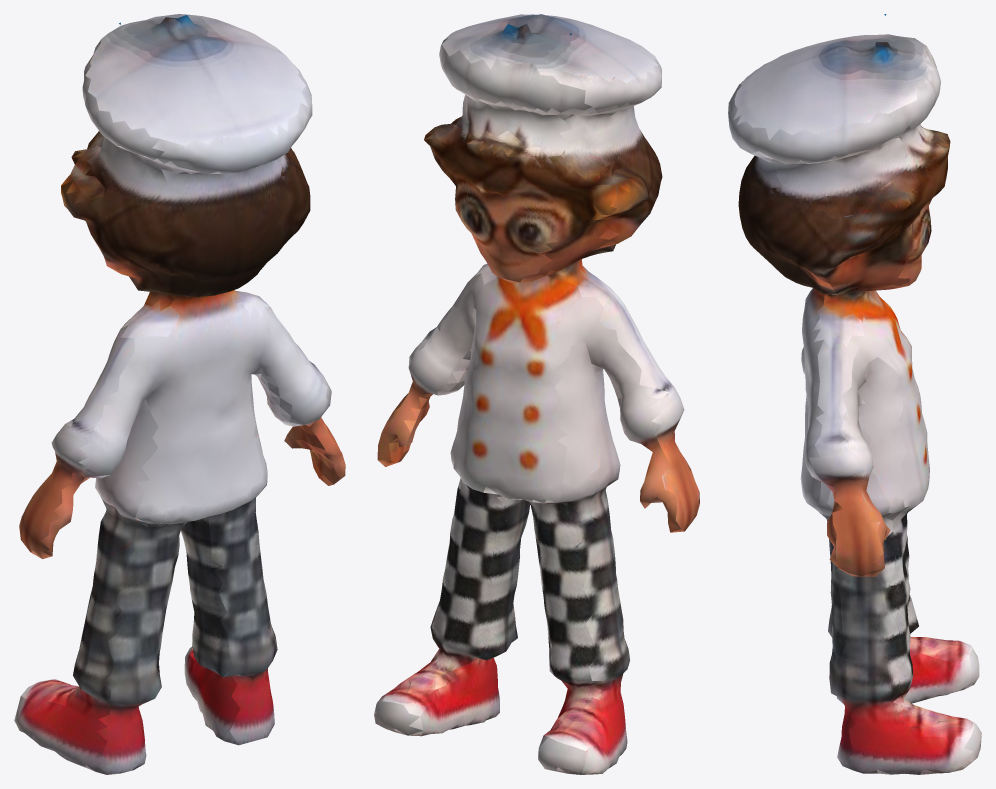
File: chef-brainy-toon-raw.glb
The picture shows the model from 3 angles, left to right: view 1: azimuth 30°, elevation 25°; view 2: azimuth 150°, elevation 25°; view 3: azimuth 270°, elevation 25°; orthographic projection. The views are drawn at different scales.
Parts seen in each view (by area): view 1: world; view 2: world; view 3: world.
Part boxes in pixels (x1,y1,x2,y2): world: (14, 14, 345, 774); world: (374, 14, 699, 774); world: (728, 14, 981, 774).
Size of the model in its own units: 0.4153 by 0.936 by 0.3085.
1 material, 1 textured.
